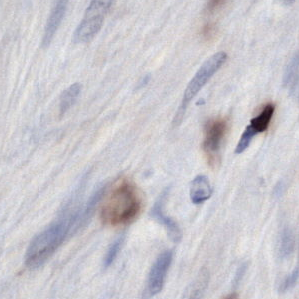Lymphocyte: (250, 103, 274, 134)
